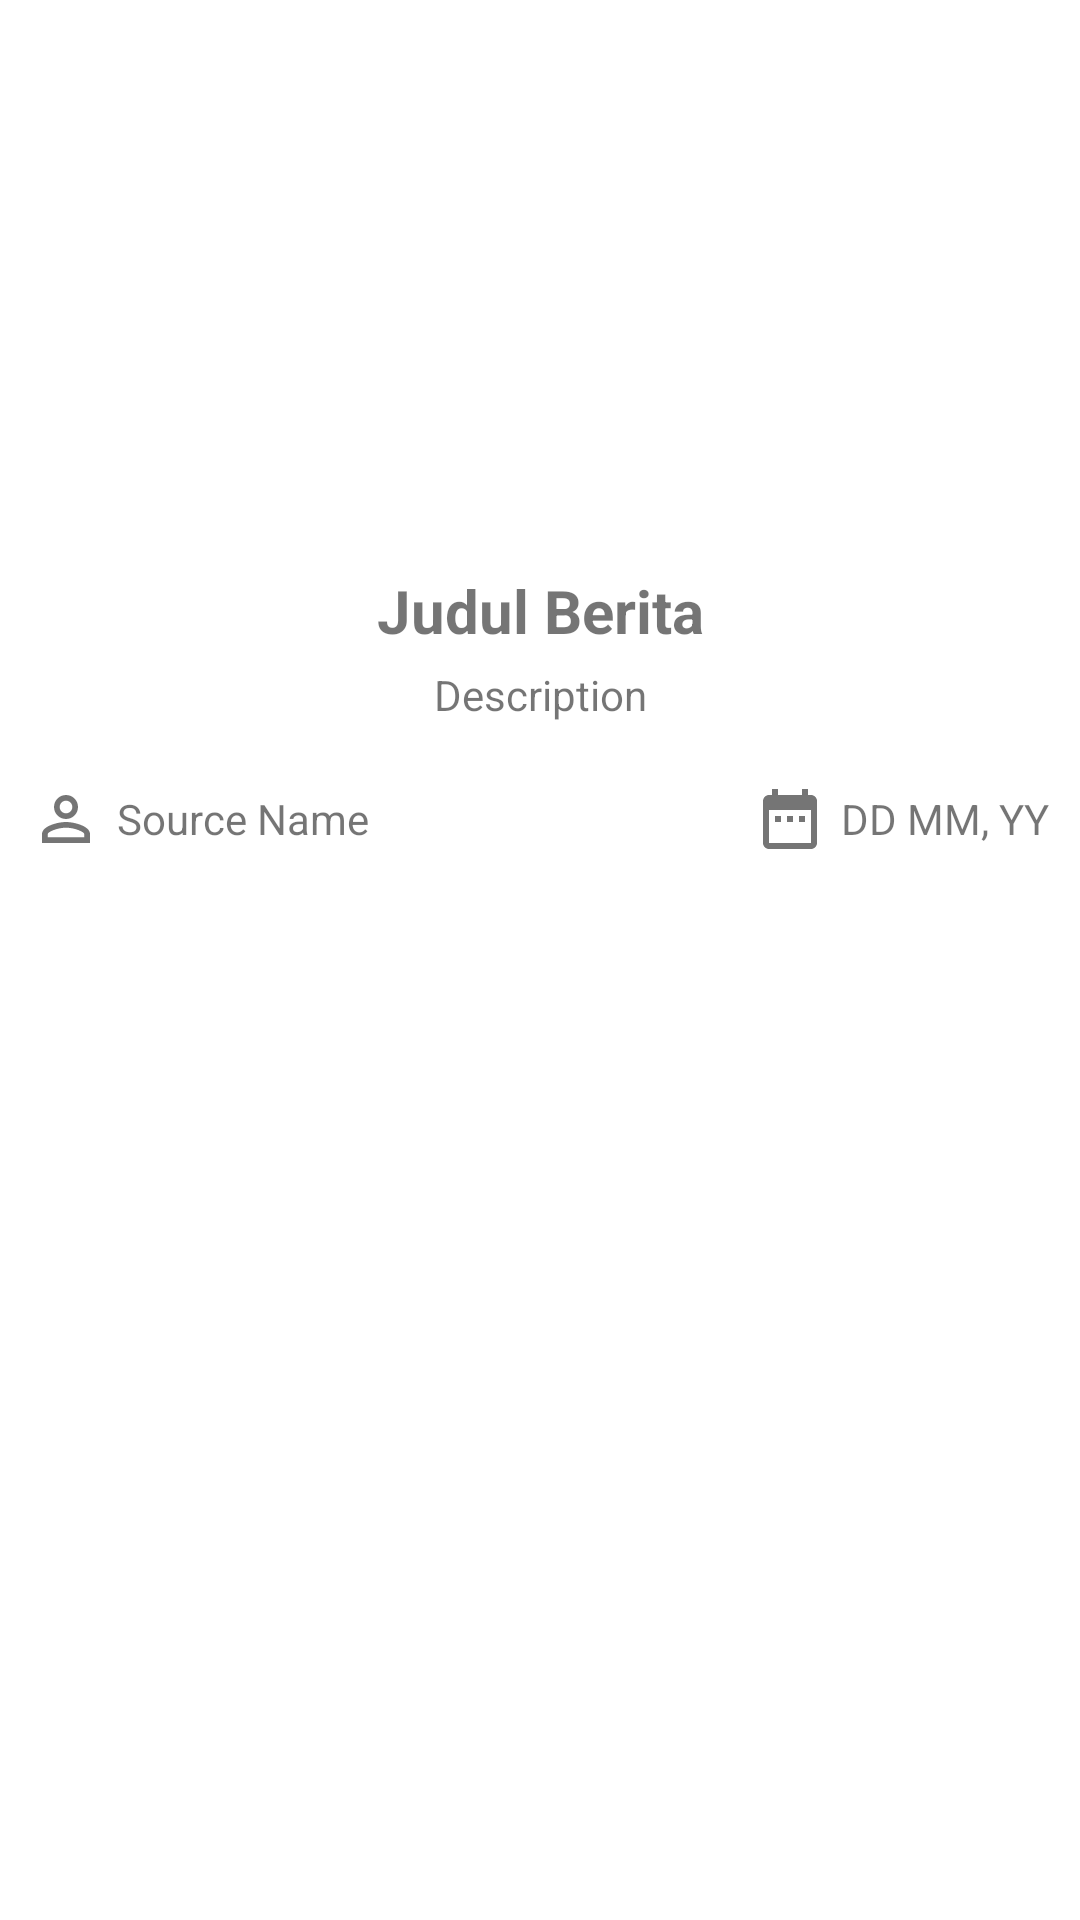

Icon bounding boxes for this 1080w x 1920h phone screenshot, format [x1,y1,x2,y2]:
published at: [763,789,817,849]
